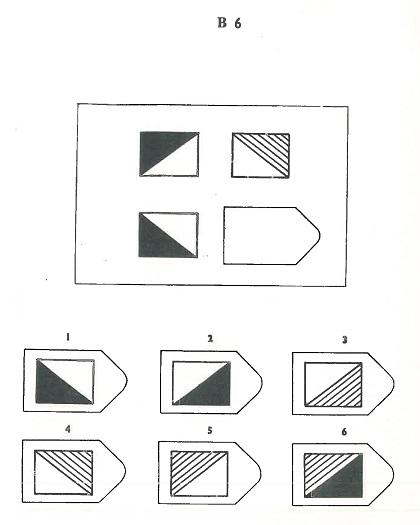Array 1: (17, 329, 130, 417)
Array 2: (153, 328, 268, 419)
Array 3: (287, 329, 398, 419)
Array 4: (17, 423, 129, 508)
Array 5: (154, 422, 268, 511)
Array 6: (289, 422, 399, 509)
Matrix 1: (133, 122, 203, 183)
Matrix 2: (227, 127, 295, 183)
Matrix 3: (131, 202, 204, 265)
Matrix Unknown: (219, 201, 323, 270)
